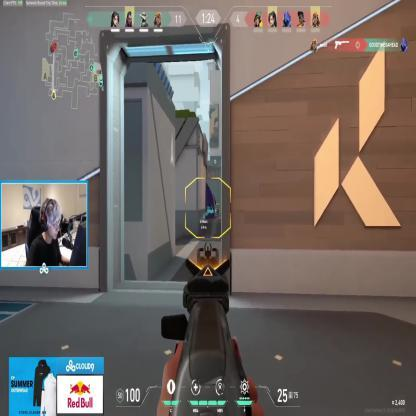enemy: (216, 200, 220, 215)
enemy_head: (218, 200, 219, 203)
